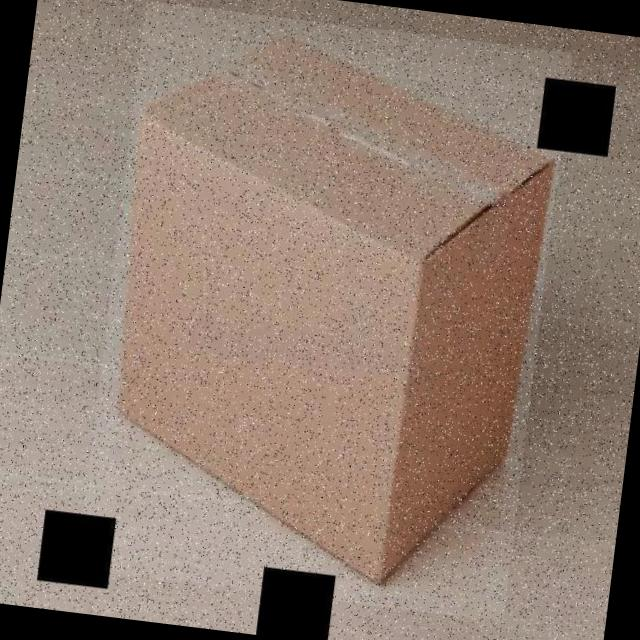box: (75, 0, 572, 621)
